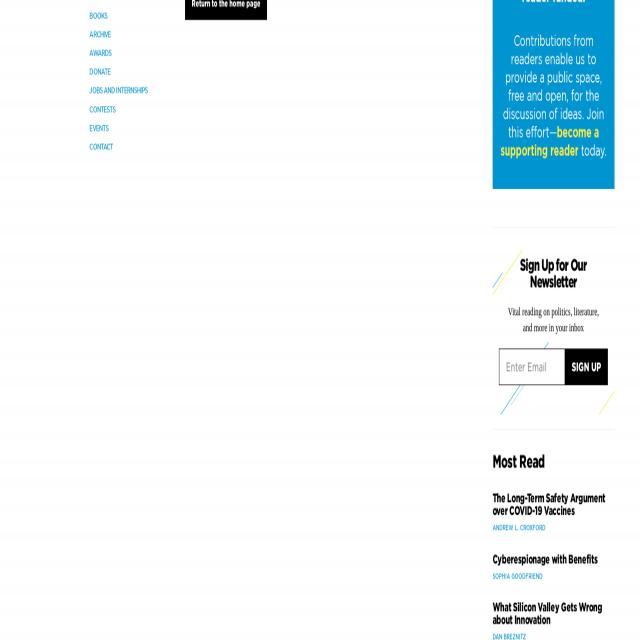button: (564, 348, 608, 386), (185, 0, 267, 20)
field: (499, 348, 565, 386)
